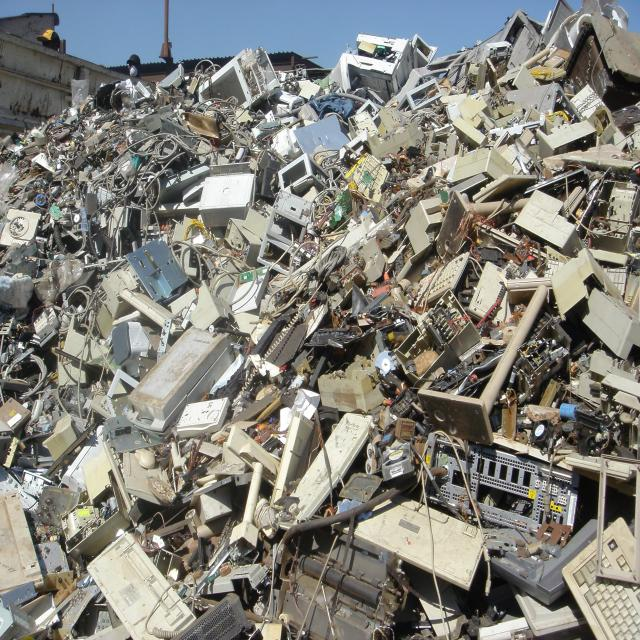Hazard: (3, 38, 640, 640)
